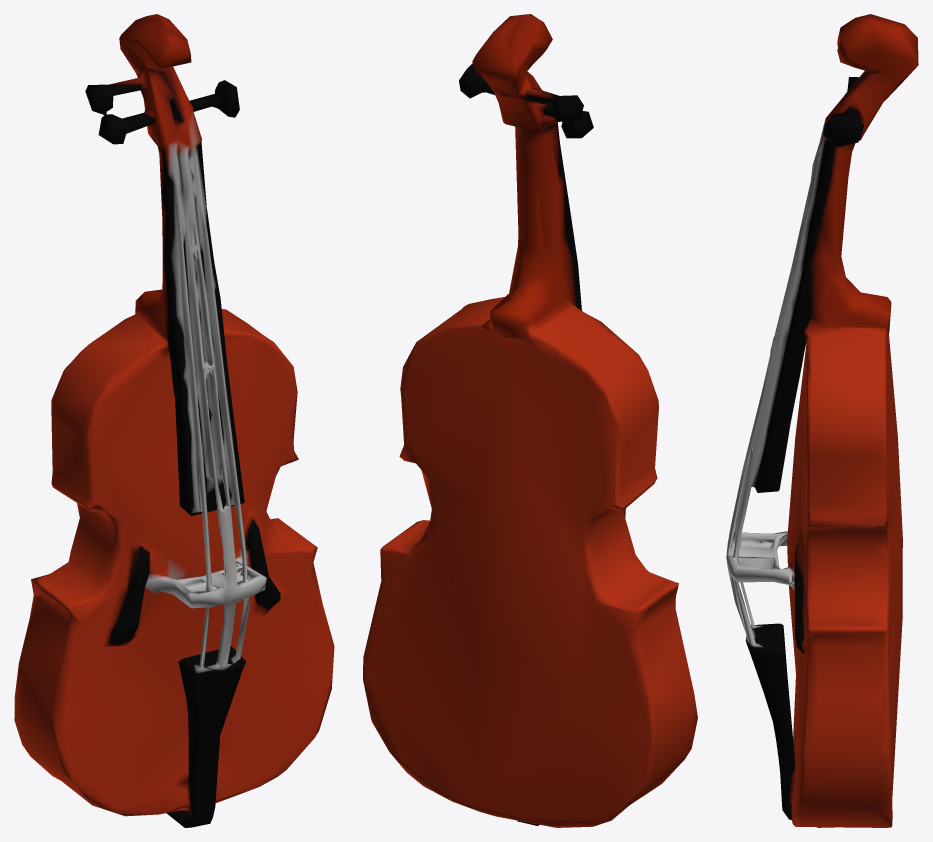
The model's file is gen3d-cello-lod0.glb.
3 views of the same model, side by side, from view 1: azimuth 30°, elevation 25°; view 2: azimuth 150°, elevation 25°; view 3: azimuth 270°, elevation 25° (orthographic). The views are drawn at different scales.
Parts seen in each view (by area): view 1: part_0; view 2: part_0; view 3: part_0.
Part boxes in pixels (x1=…): part_0: x1=14, y1=14, x2=334, y2=827; part_0: x1=363, y1=14, x2=697, y2=827; part_0: x1=726, y1=14, x2=918, y2=827.
Bounding box in the file's own units: 0.3742 × 0.999 × 0.2153.
